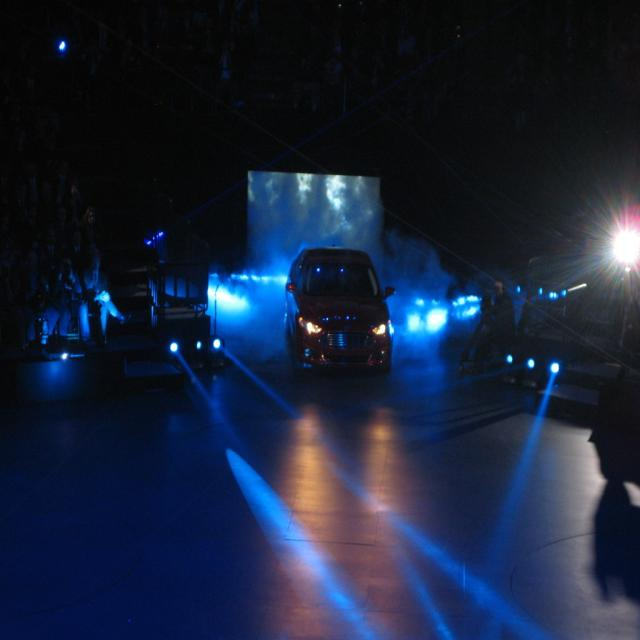car: (281, 246, 396, 375)
